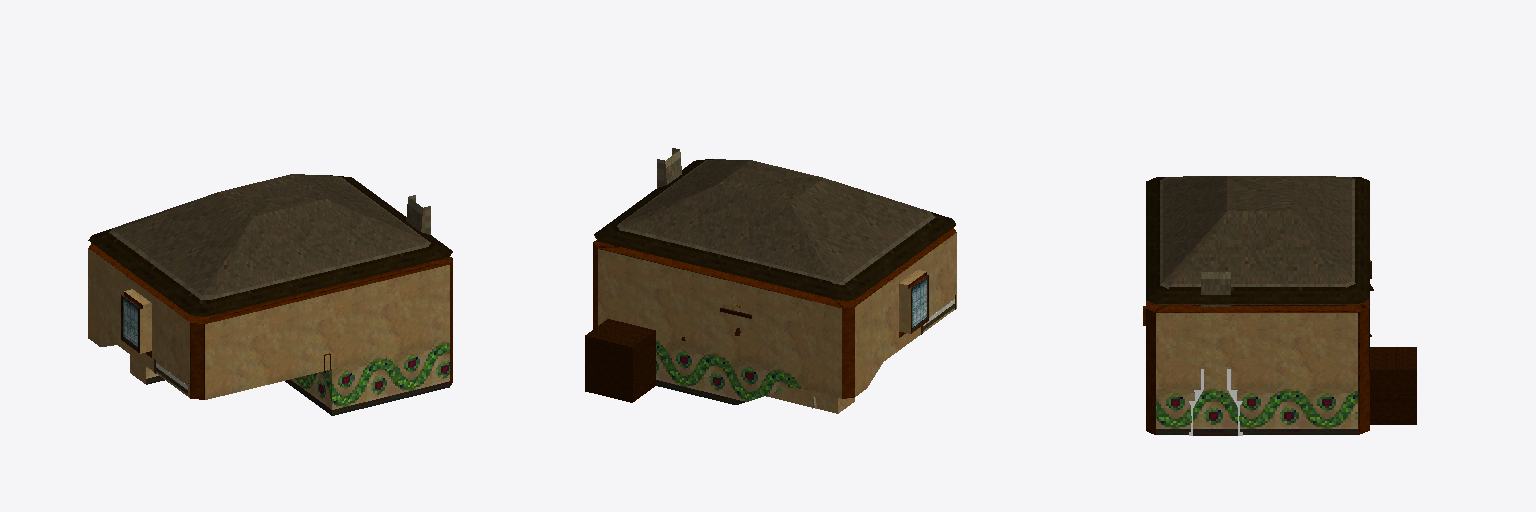
3 renders of one model, left to right at view 1: azimuth 30°, elevation 25°; view 2: azimuth 150°, elevation 25°; view 3: azimuth 270°, elevation 25°, orthographic.
Visible parts, largest first — view 1: Mesh2 Roof_TAG_NoCollision Model, Mesh42 Walls Model, Mesh43 Walls Model, Mesh1 Beams_TAG_NoCollision Model, Mesh50 Walls_TAG_Wood Model, Mesh46 Hearth_TAG_NoCollision Model; view 2: Mesh2 Roof_TAG_NoCollision Model, Mesh41 Walls Model, Mesh43 Walls Model, Mesh9 Exit_TAG_Exit0 Model, Mesh1 Beams_TAG_NoCollision Model, Mesh51 Walls_TAG_Wood Model, Mesh42 Walls Model, Mesh46 Hearth_TAG_NoCollision Model; view 3: Mesh2 Roof_TAG_NoCollision Model, Mesh44 Walls Model, Mesh9 Exit_TAG_Exit0 Model, Mesh1 Beams_TAG_NoCollision Model, Mesh53 Walls_TAG_Wood Model, Mesh46 Hearth_TAG_NoCollision Model, Mesh54 Walls_TAG_Wood Model.
Part boxes in pixels (bbox=[...]): Mesh2 Roof_TAG_NoCollision Model: bbox=[88, 174, 452, 316]; Mesh42 Walls Model: bbox=[130, 265, 449, 415]; Mesh43 Walls Model: bbox=[88, 248, 189, 397]; Mesh1 Beams_TAG_NoCollision Model: bbox=[89, 243, 452, 323]; Mesh50 Walls_TAG_Wood Model: bbox=[190, 323, 204, 399]; Mesh46 Hearth_TAG_NoCollision Model: bbox=[406, 195, 430, 234]; Mesh2 Roof_TAG_NoCollision Model: bbox=[594, 159, 955, 300]; Mesh41 Walls Model: bbox=[598, 249, 841, 404]; Mesh43 Walls Model: bbox=[855, 233, 956, 396]; Mesh9 Exit_TAG_Exit0 Model: bbox=[585, 319, 655, 402]; Mesh1 Beams_TAG_NoCollision Model: bbox=[594, 227, 956, 308]; Mesh51 Walls_TAG_Wood Model: bbox=[842, 307, 854, 398]; Mesh42 Walls Model: bbox=[766, 387, 854, 413]; Mesh46 Hearth_TAG_NoCollision Model: bbox=[657, 148, 681, 187]; Mesh2 Roof_TAG_NoCollision Model: bbox=[1146, 176, 1369, 304]; Mesh44 Walls Model: bbox=[1156, 313, 1357, 434]; Mesh9 Exit_TAG_Exit0 Model: bbox=[1370, 347, 1416, 424]; Mesh1 Beams_TAG_NoCollision Model: bbox=[1146, 300, 1369, 312]; Mesh53 Walls_TAG_Wood Model: bbox=[1358, 308, 1369, 434]; Mesh46 Hearth_TAG_NoCollision Model: bbox=[1189, 272, 1242, 435]; Mesh54 Walls_TAG_Wood Model: bbox=[1146, 309, 1155, 434].
Size of the model in its own units: 684 by 588 by 584.
22 materials, 20 textured.